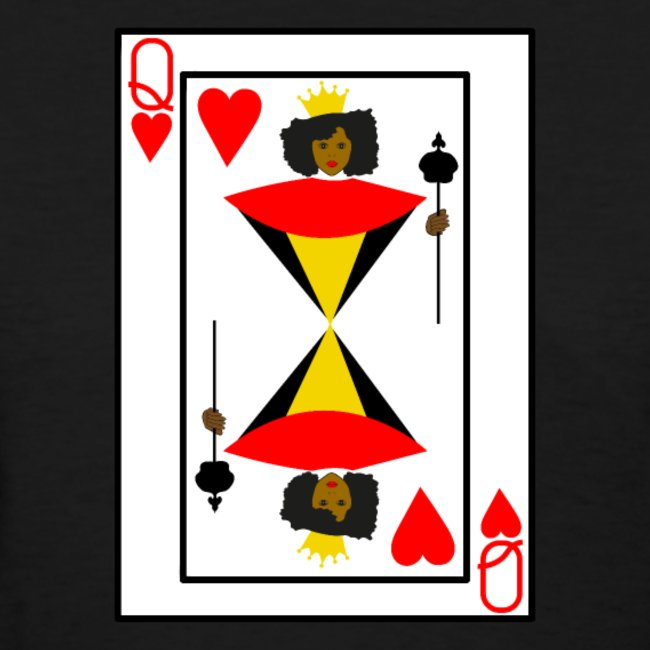queen of hearts: (121, 33, 530, 615)
